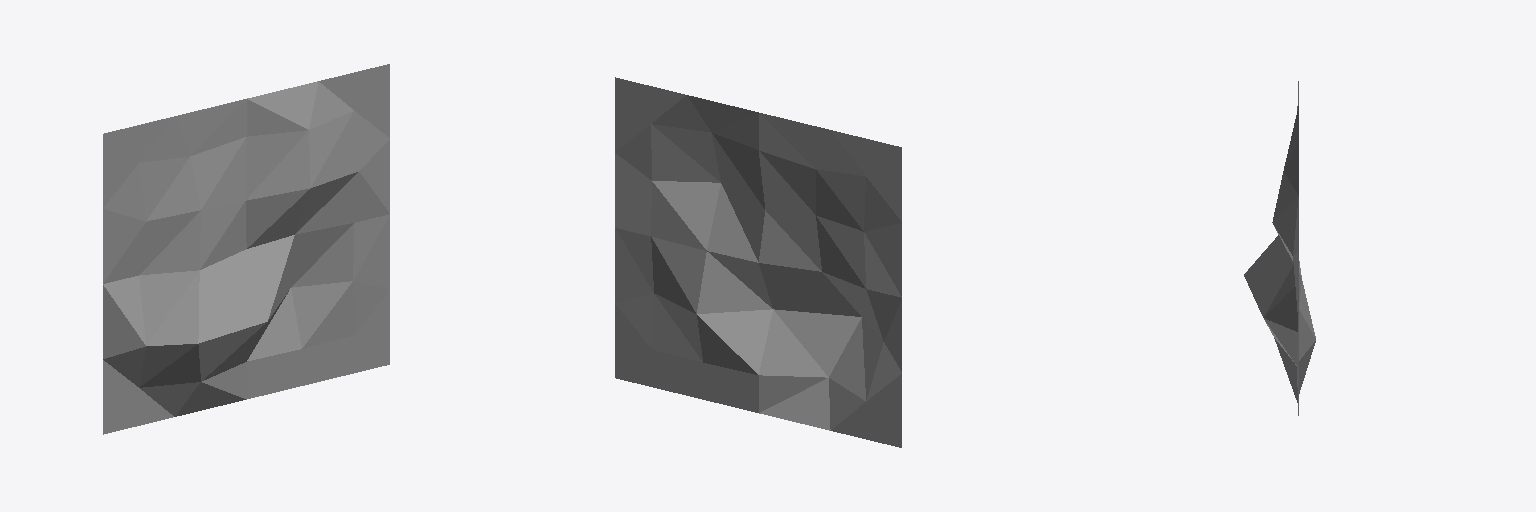
Rendered from ground_cave.obj.
3 views of the same model, side by side, from view 1: azimuth 30°, elevation 25°; view 2: azimuth 150°, elevation 25°; view 3: azimuth 270°, elevation 25° (orthographic).
Bounding box in the file's own units: 2 × 2 × 0.4376.